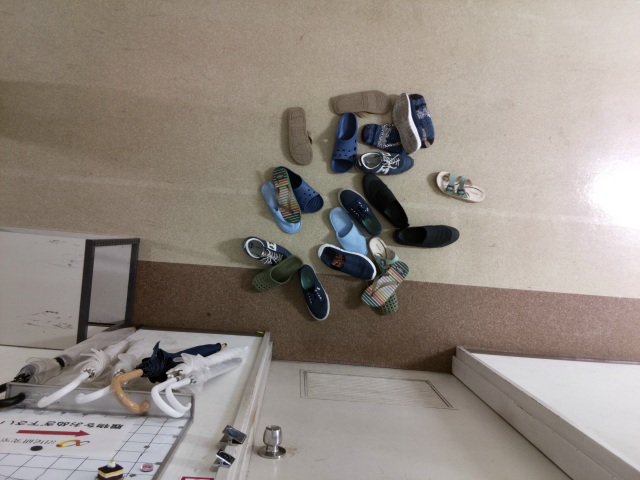Copy of Copy of Copy of Copy of Copy of Copy of Copy of Copy of Copy of Copy of: (318, 202, 376, 259), (332, 181, 389, 239), (360, 171, 418, 228), (272, 157, 327, 217), (263, 163, 310, 225), (257, 176, 303, 238), (403, 83, 443, 153), (389, 88, 429, 158), (322, 85, 403, 119), (366, 227, 410, 284), (355, 119, 427, 153), (349, 145, 421, 179)
Copy of Copy of Copy of Copy of Copy of Copy of Copy of Copy of Copy of shoe: (311, 236, 382, 281)
Copy of Copy of Copy of Copy of Copy of Copy of Copy of Copy of shoe: (367, 255, 408, 320)
Copy of Copy of Copy of Copy of Copy of Copy of Copy of shoe: (356, 256, 414, 310)
Copy of Copy of Copy of Copy of Copy of Copy of shoe: (391, 218, 467, 250)
Copy of Copy of Copy of Copy of Copy of shoe: (428, 163, 493, 206)
Copy of Copy of Copy of Copy of Copy of umbrella: (1, 317, 123, 408)
Copy of Copy of Copy of Copy of shoe: (323, 107, 368, 176)
Copy of Copy of Copy of Copy of umbrella: (25, 320, 137, 407)
Copy of Copy of Copy of shoe: (278, 101, 322, 170)
Copy of Copy of Copy of umbrella: (68, 324, 169, 410)
Copy of Copy of shoe: (290, 258, 335, 326)
Copy of Copy of umbrella: (106, 338, 231, 418)
Copy of shoe: (239, 232, 303, 272)
Copy of umbrella: (164, 350, 260, 420)
shoe: (242, 251, 305, 294)
umbrella: (148, 336, 257, 422)
